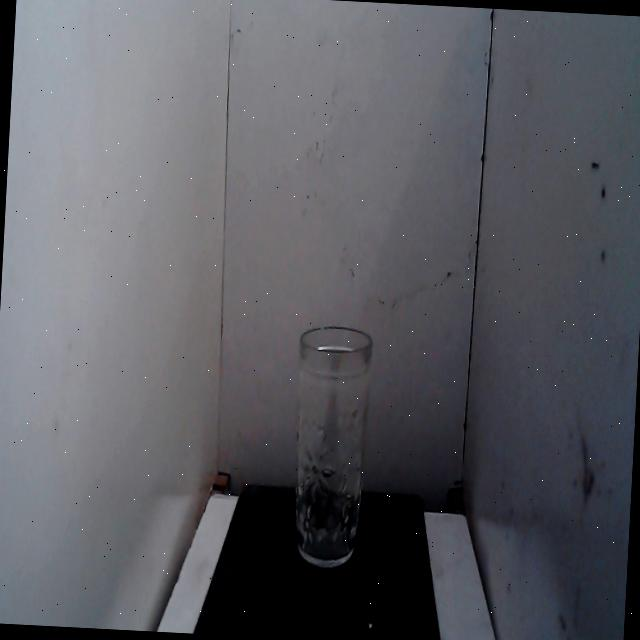glass: (268, 302, 390, 580)
